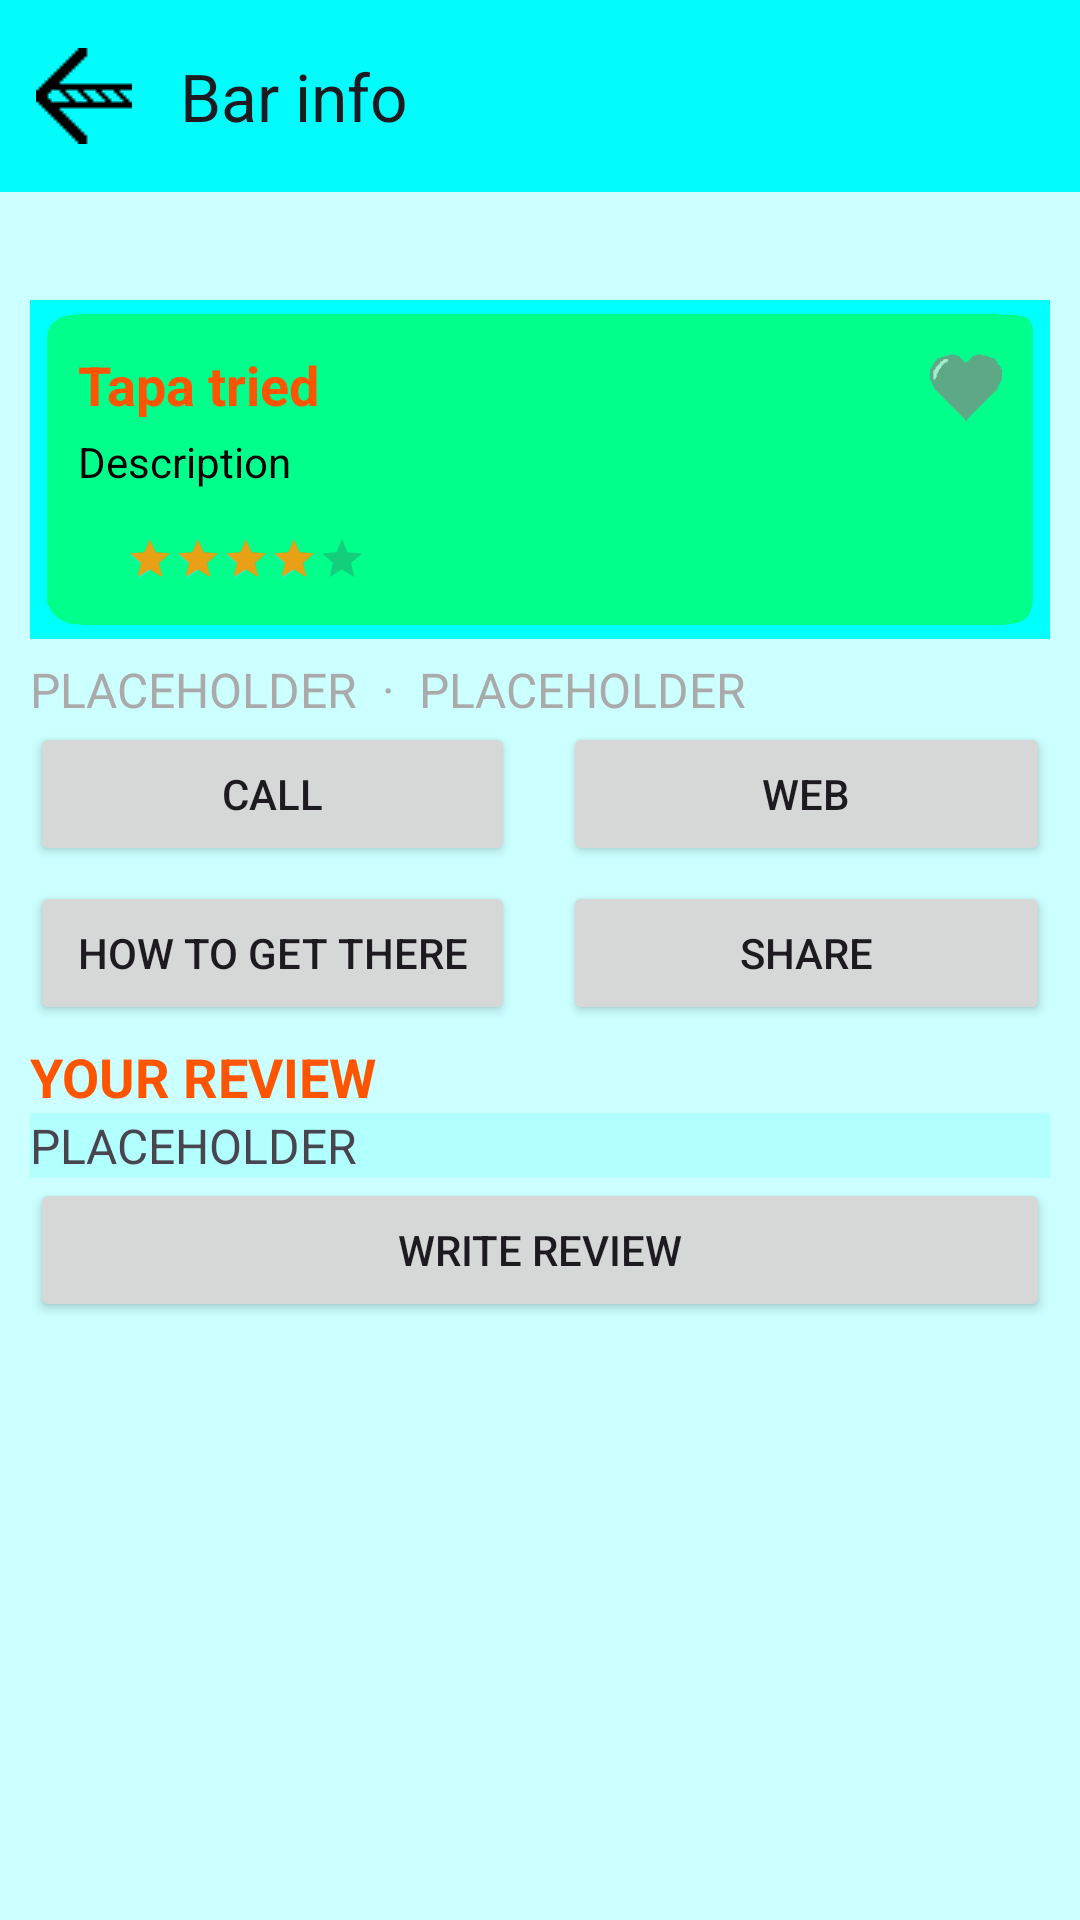

Point at icon controls on the screen. Image size 1080px×1920px, points as [x,y].
heart grayscale: [966,387]
